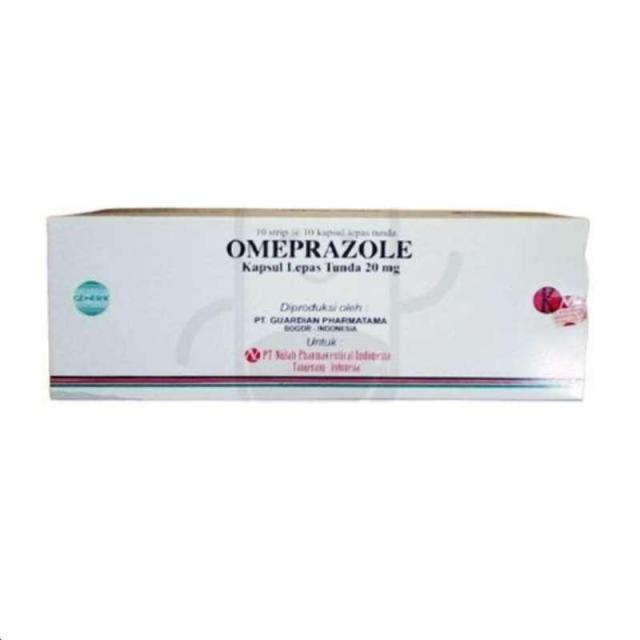drug-name: (224, 235, 418, 259)
